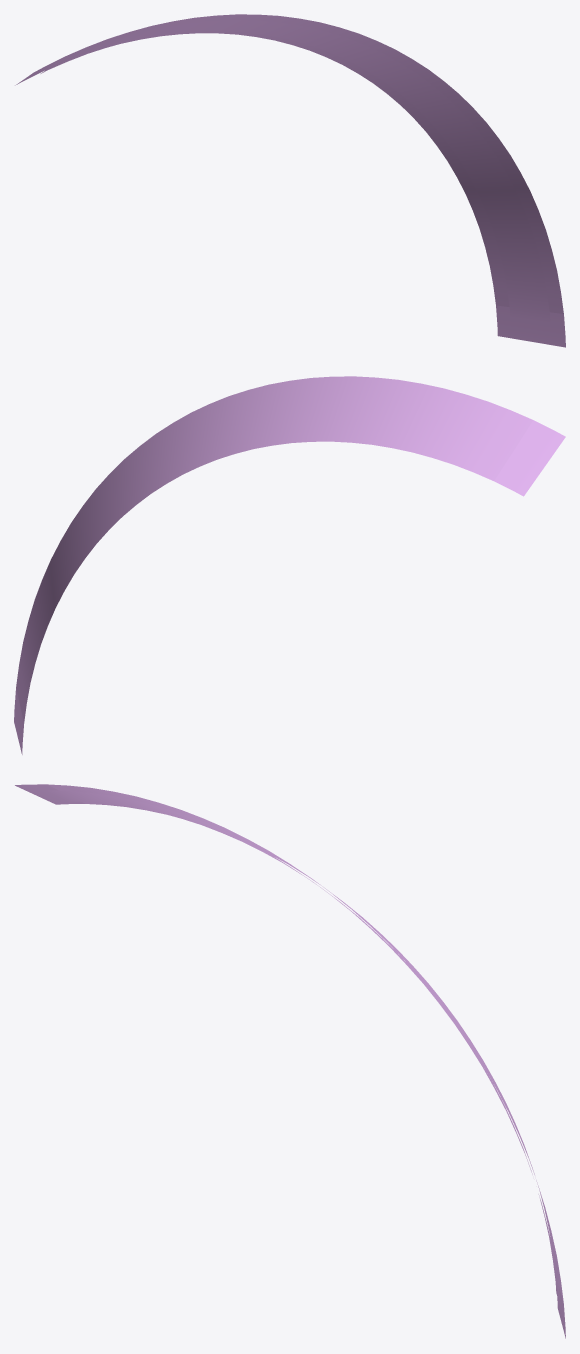
Rendered from Mesh_Note_18.fbx.
3 views of the same model, one above another, from view 1: azimuth 30°, elevation 25°; view 2: azimuth 150°, elevation 25°; view 3: azimuth 330°, elevation 25° (orthographic). The views are drawn at different scales.
Parts seen in each view (by area): view 1: Mesh_Note_18; view 2: Mesh_Note_18; view 3: Mesh_Note_18.
Part boxes in pixels (x1=…): Mesh_Note_18: x1=15, y1=14, x2=565, y2=347; Mesh_Note_18: x1=14, y1=376, x2=565, y2=754; Mesh_Note_18: x1=15, y1=784, x2=565, y2=1338.
Size of the model in its own units: 2.28 by 1.74 by 0.2236.
